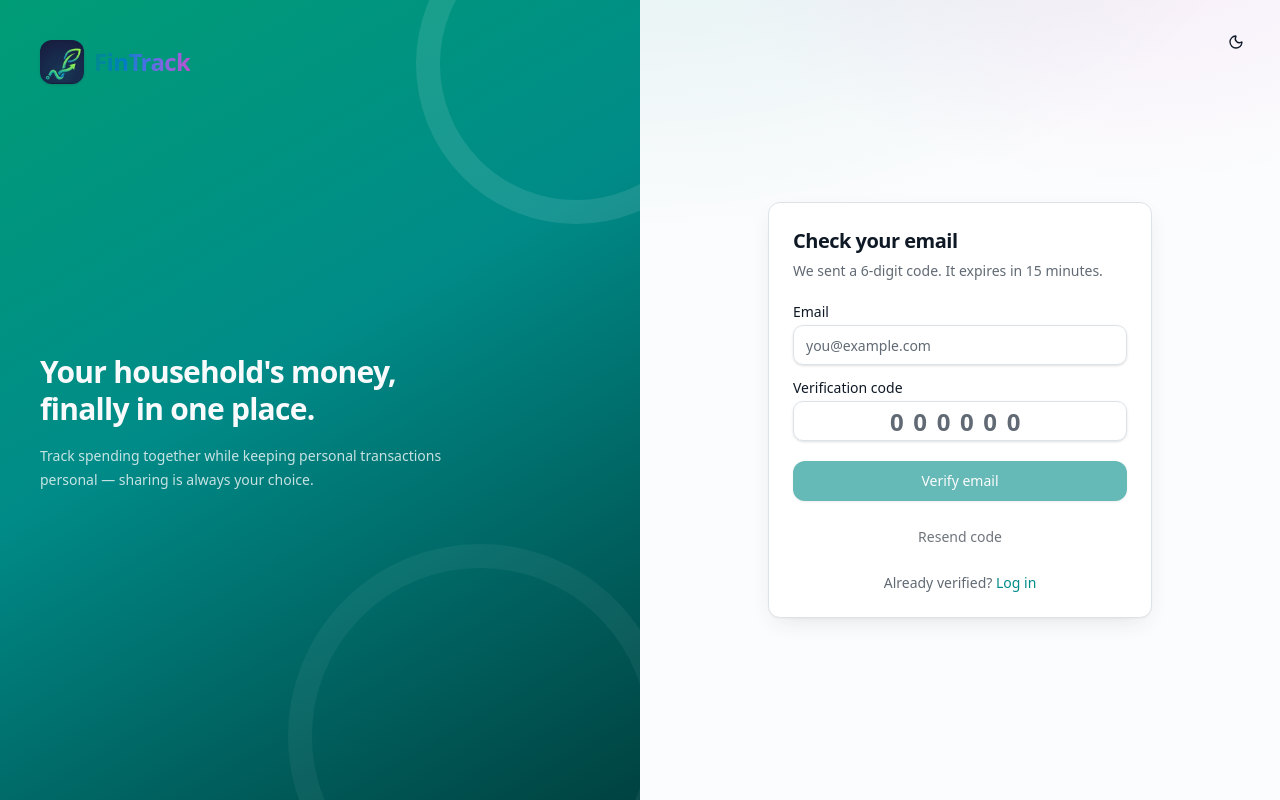
Test: VerifyEmailPage › keeps the button disabled until 6 digits are entered and strips non-digits
In the field labelled "Verification code": (960, 421) [793,401,1127,441], type "12ab"
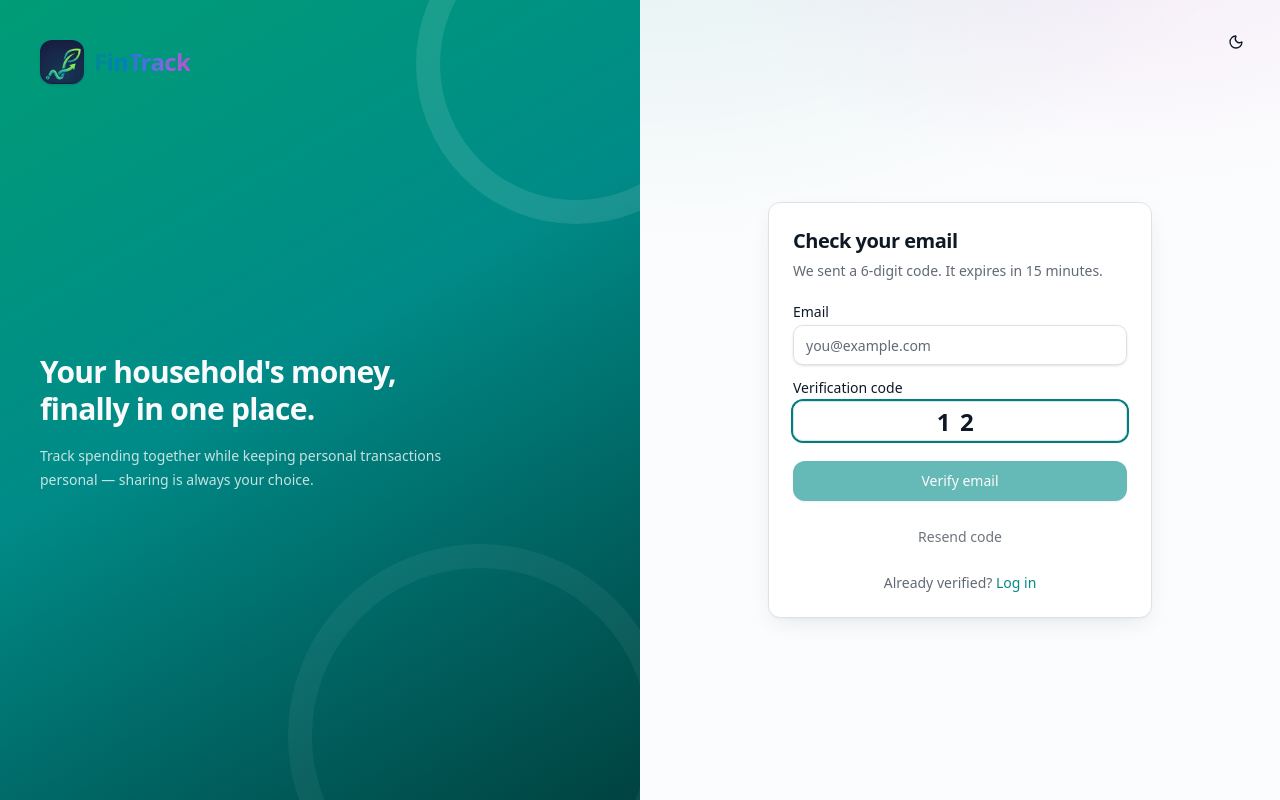
Expected: the button "Verify email" is disabled, [793,461,1127,501]
Result: the field labelled "Verification code" holds "12"
In the field labelled "Verification code": (960, 421) [793,401,1127,441], type "3456"
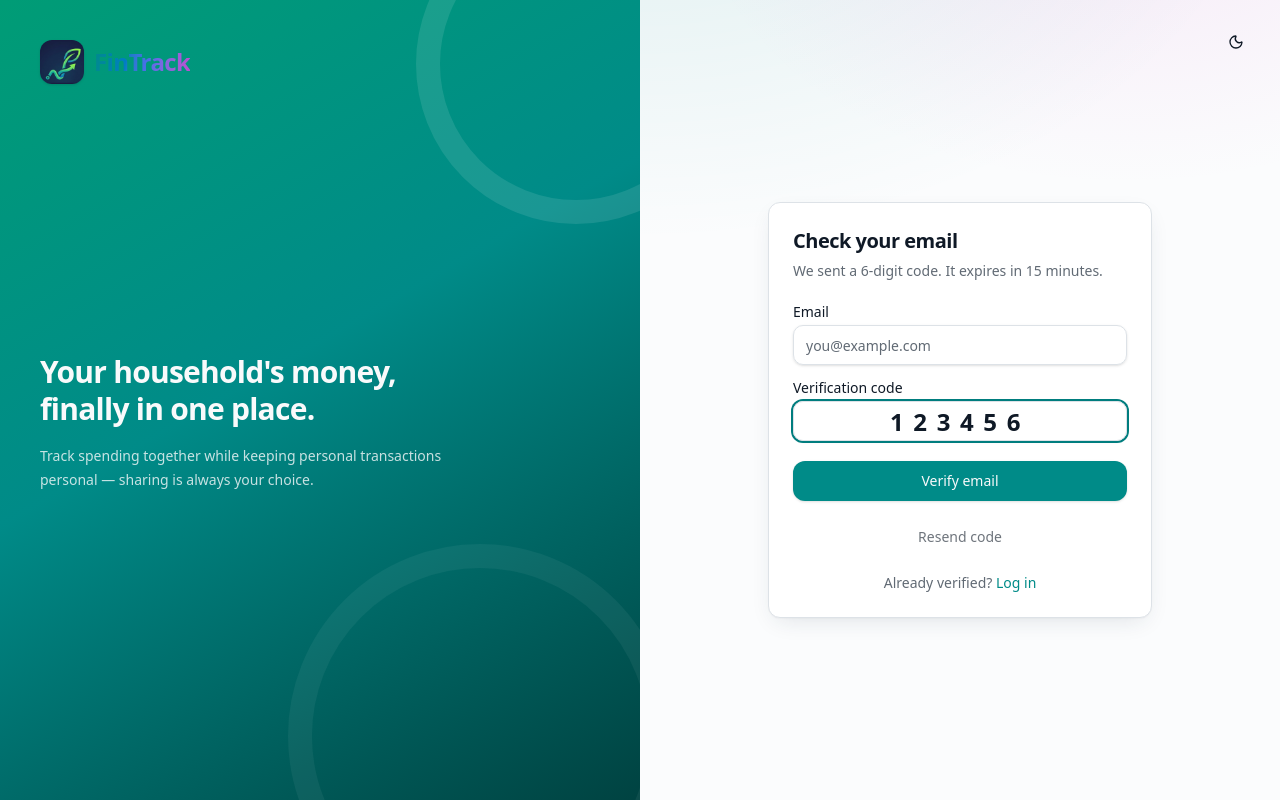
Result: the button "Verify email" is enabled at [793,461,1127,501]
